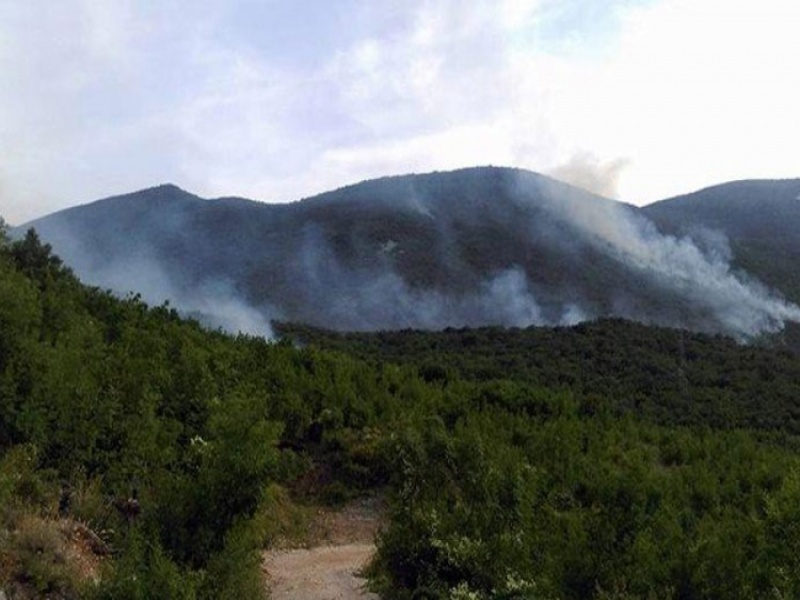smoke: (14, 79, 791, 338)
